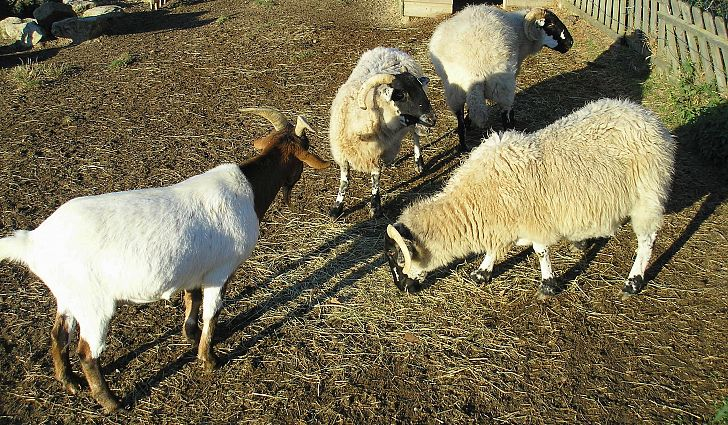sheep: (20, 103, 324, 421), (382, 98, 669, 315), (424, 6, 573, 145), (332, 45, 433, 228)
